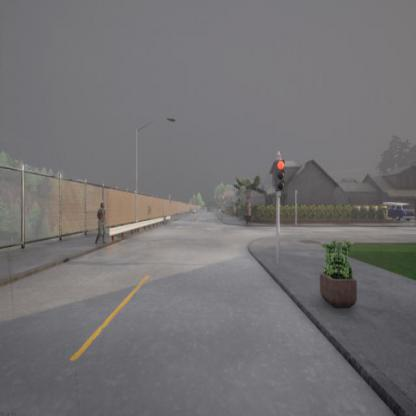person: (95, 201, 109, 245)
traffic_light_red: (274, 160, 285, 191)
